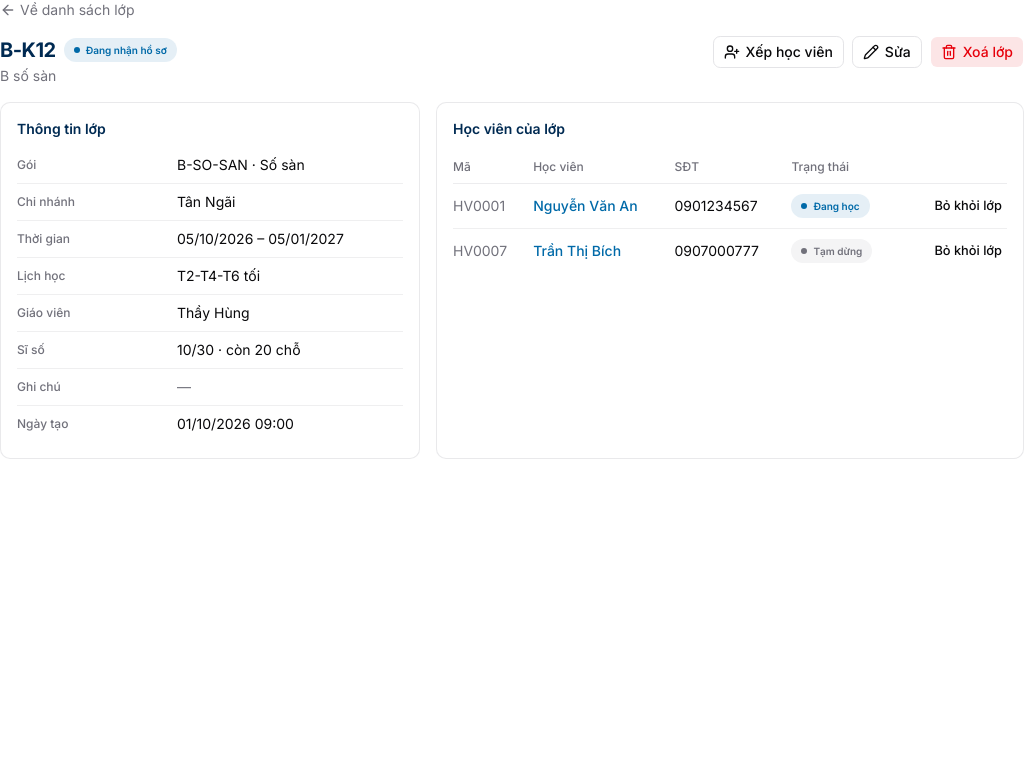
Test: ClassDetail › Xếp học viên: tìm theo chi nhánh + gói + Đang học, ẩn người đã có lớp, báo lỗi từng học viên
Click the button "Xếp học viên": point(778, 52) top-left (712, 36), bottom-right (844, 68)
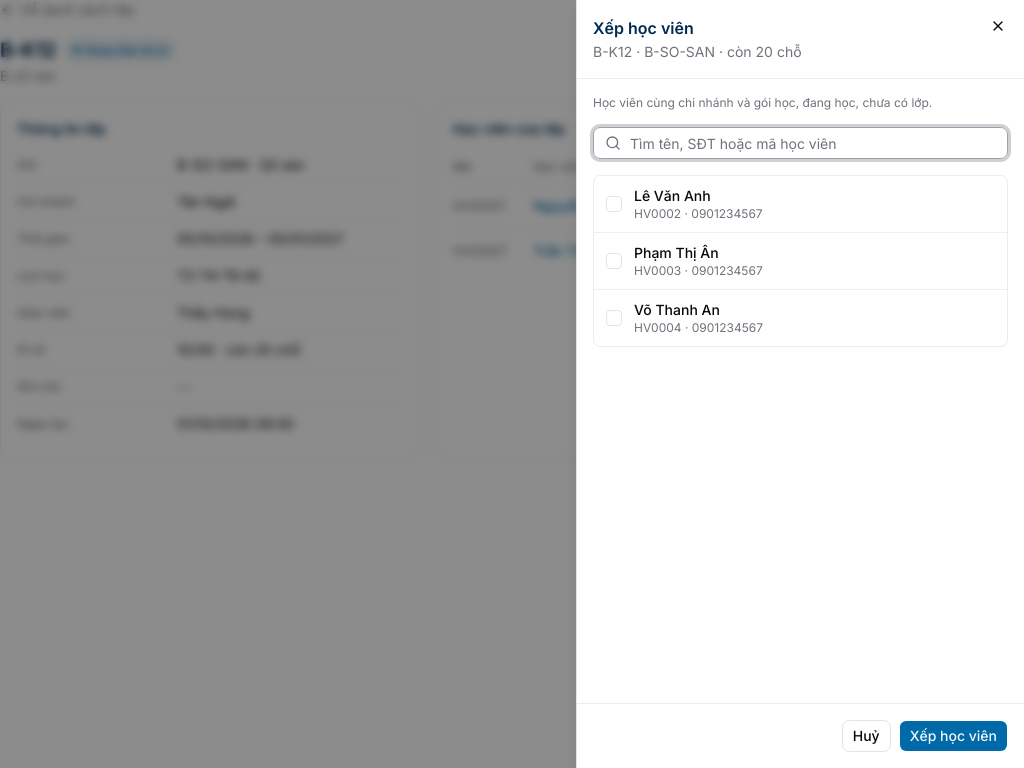
In the search field named "Tìm học viên": point(800, 143) top-left (593, 127), bottom-right (1008, 159), type "an"
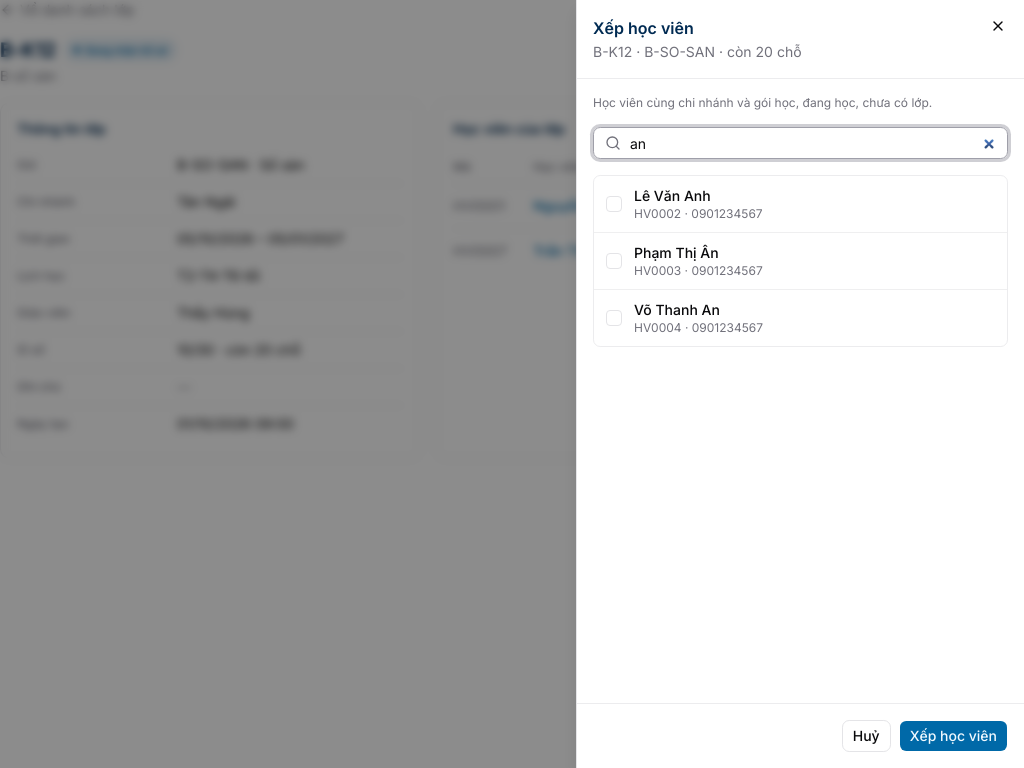
Click the checkbox named "Lê Văn Anh" next to "Lê Văn Anh": point(614, 204) top-left (606, 196), bottom-right (622, 212)
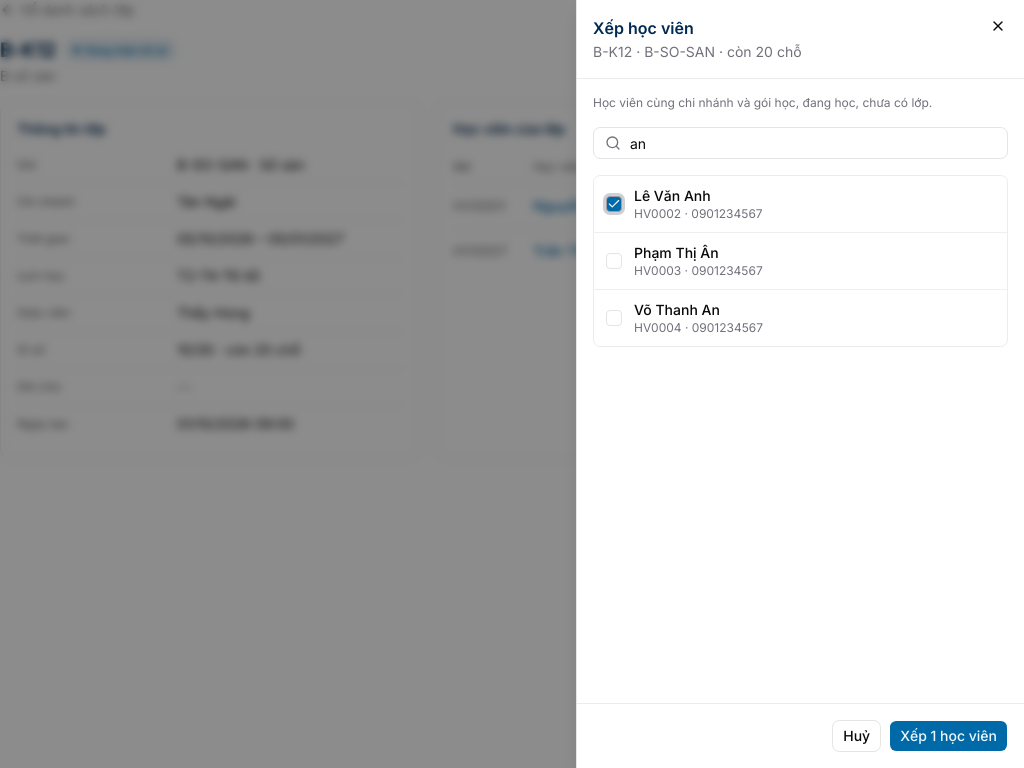
Click the checkbox named "Phạm Thị Ân" next to "Phạm Thị Ân": point(614, 261) top-left (606, 253), bottom-right (622, 269)
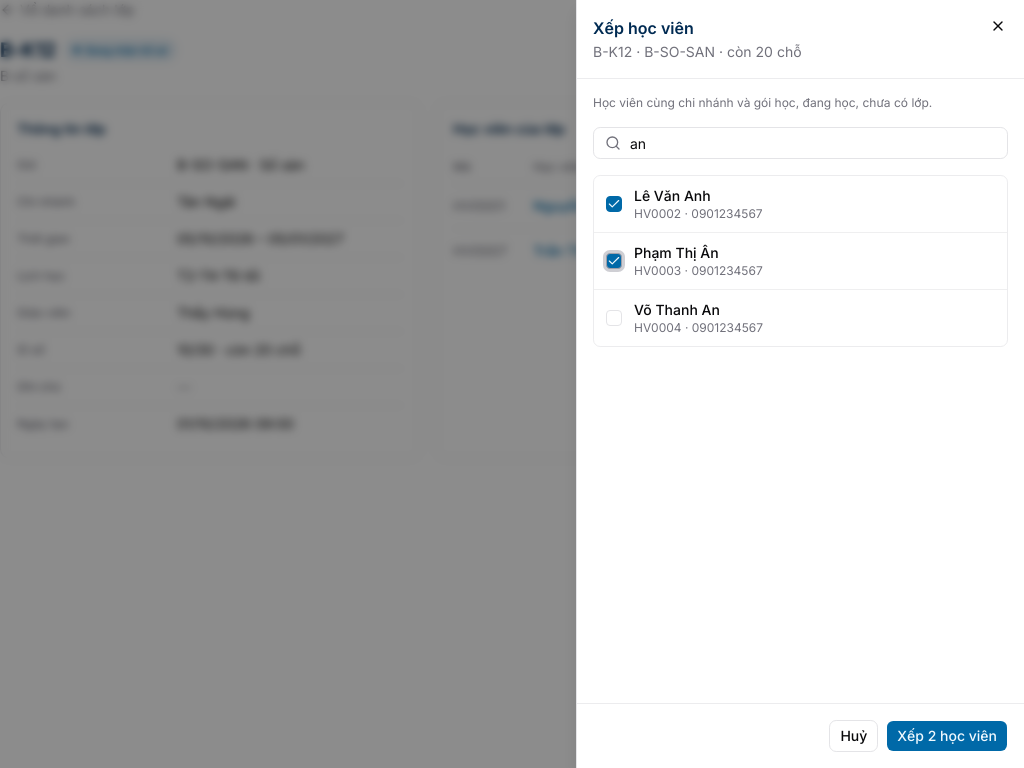
Click the checkbox named "Võ Thanh An" next to "Võ Thanh An": point(614, 318) top-left (606, 310), bottom-right (622, 326)
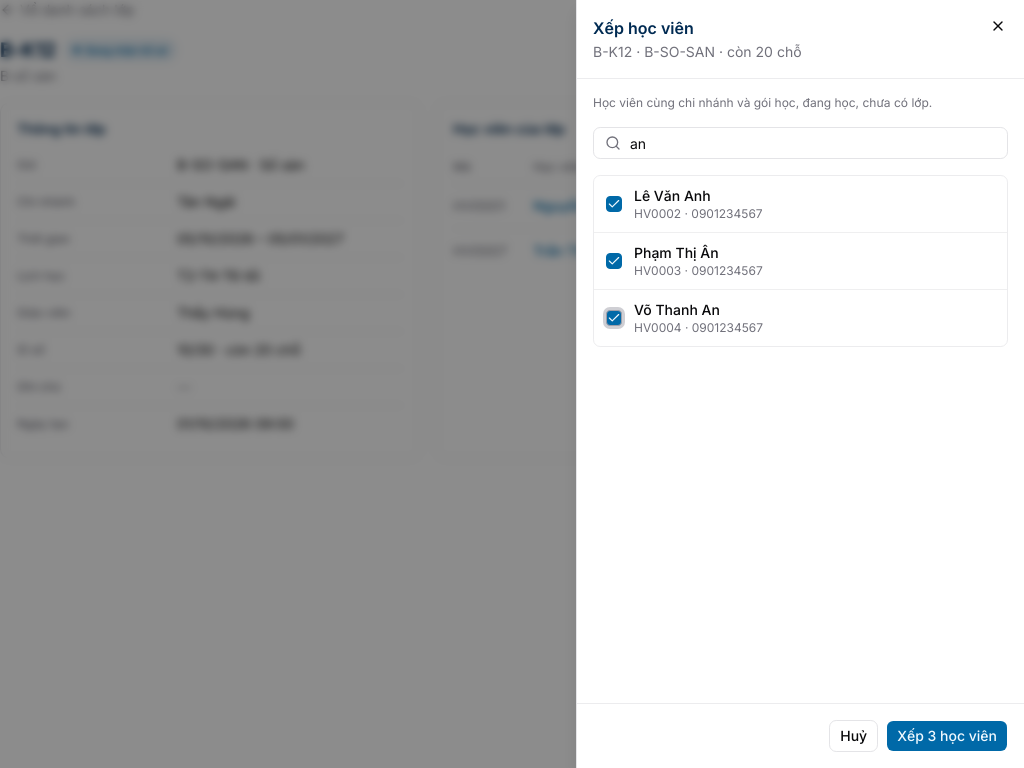
Click the button "Xếp 3 học viên": point(947, 736) top-left (886, 720), bottom-right (1008, 752)
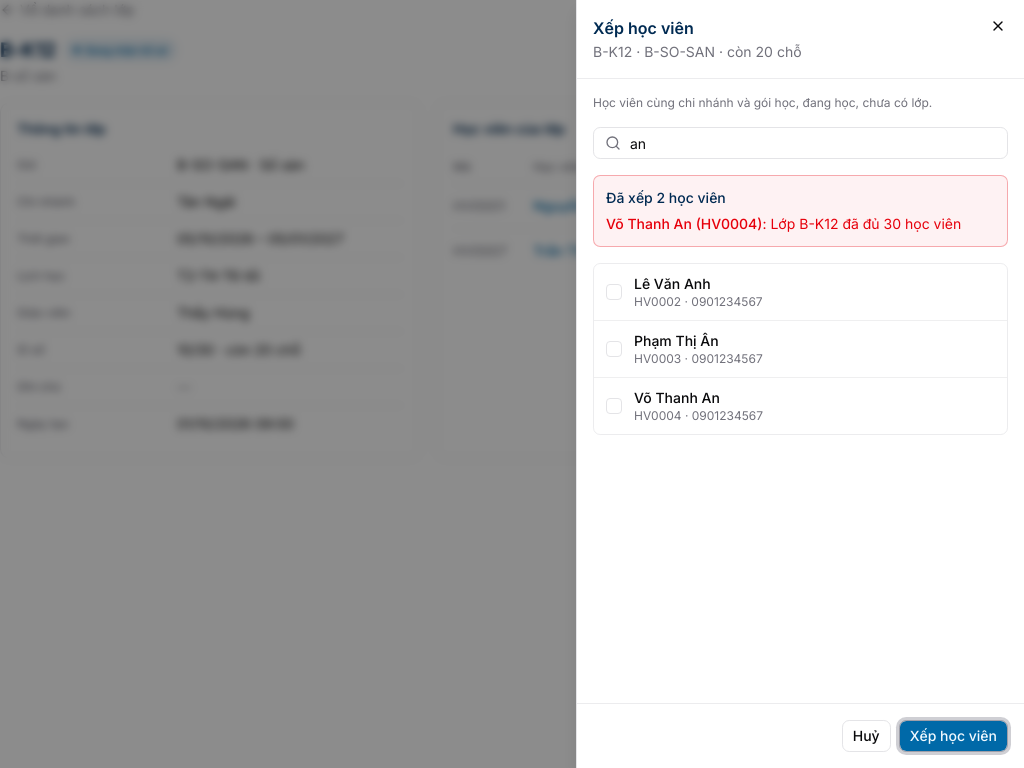
Expected: the text "Đã xếp 2 học viên" is shown, top-left (606, 189), bottom-right (726, 206)
Expected: the number of list items is 1, top-left (606, 214), bottom-right (995, 234)
Expected: the list item reads "Võ Thanh An (HV0004): Lớp B-K12 đã đủ 30 học viên", top-left (606, 214), bottom-right (995, 234)
